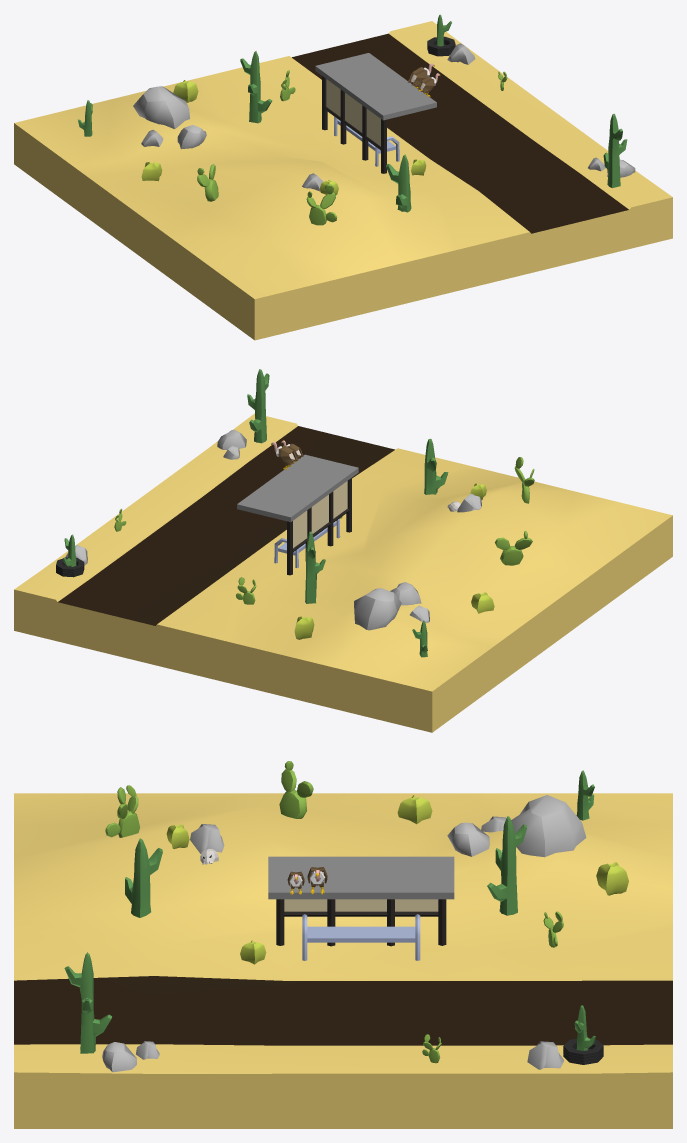
The model's file is environnement.glb.
3 renders of one model, top to bottom at view 1: azimuth 30°, elevation 25°; view 2: azimuth 150°, elevation 25°; view 3: azimuth 270°, elevation 25°, orthographic. The views are drawn at different scales.
Parts seen in each view (by area): view 1: pCube1, polySurface18, pCube53, polySurface16, polySurface12, pCube46, pCube25, pCube47, pCube11, pCube30, polySurface20, pCube27; view 2: pCube1, polySurface18, pCube53, polySurface12, polySurface16, pCube46, pCube25, pCube47, pCube27; view 3: pCube1, polySurface18, pCube53, polySurface20, polySurface16, pCube25, polySurface12, pCube46, pCube47, pCube27, pCube11, pCube30 (+7 smaller).
Part boxes in pixels (x1,y1,x2,y2): pCube1: (14,21,672,340); polySurface18: (315,53,436,120); pCube53: (133,86,189,129); polySurface16: (322,76,386,173); polySurface12: (326,79,380,146); pCube46: (603,114,627,188); pCube25: (240,51,271,123); pCube47: (386,154,411,212); pCube11: (306,184,337,225); pCube30: (177,125,206,149); polySurface20: (334,117,399,166); pCube27: (197,164,218,201); pCube1: (14,413,672,732); polySurface18: (237,454,358,522); pCube53: (354,588,401,630); polySurface12: (293,481,347,548); polySurface16: (287,478,351,575); pCube46: (247,369,269,443); pCube25: (305,531,325,603); pCube47: (424,438,448,494); pCube27: (495,531,532,565); pCube1: (14,793,672,1128); polySurface18: (268,856,454,899); pCube53: (511,795,586,857); polySurface20: (302,914,420,960); polySurface16: (276,899,446,946); pCube25: (487,816,526,915); polySurface12: (284,899,438,911); pCube46: (64,952,111,1053); pCube47: (125,838,162,917); pCube27: (279,761,313,818); pCube11: (105,785,140,837); pCube30: (447,822,489,856).
Size of the model in its own units: 21 by 6.02 by 20.94.
